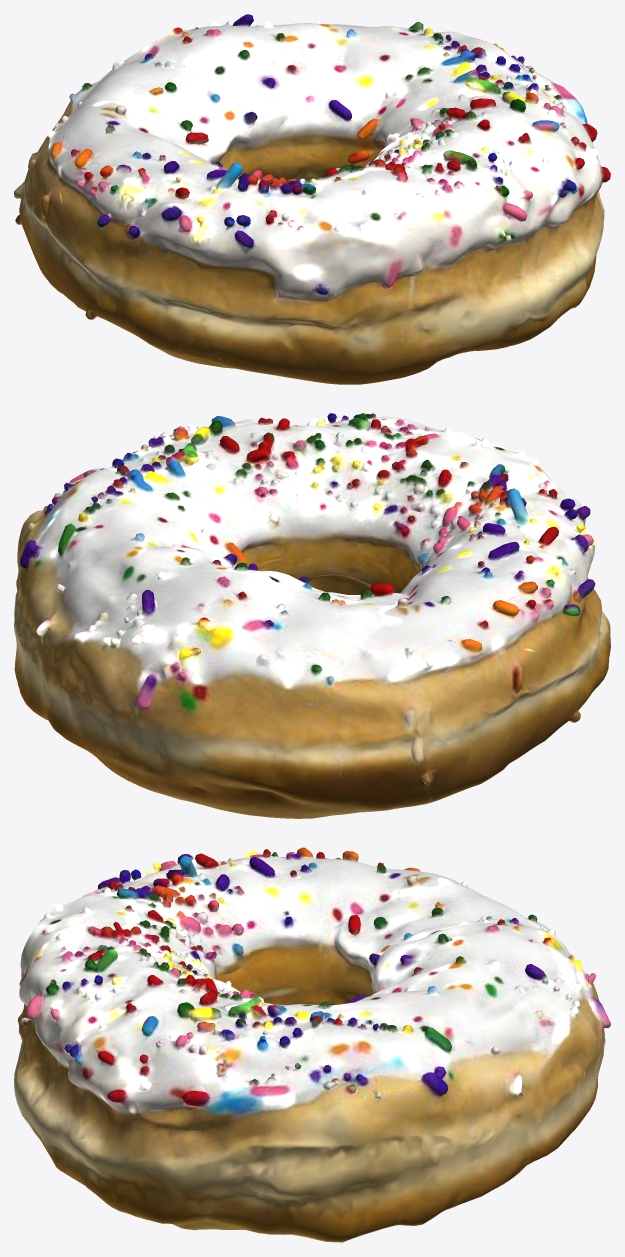
3 views of the same model, one above another, from view 1: azimuth 30°, elevation 25°; view 2: azimuth 150°, elevation 25°; view 3: azimuth 270°, elevation 25° (orthographic). The views are drawn at different scales.
Visible parts, largest first — view 1: mesh_node; view 2: mesh_node; view 3: mesh_node.
Boxes of the visible parts, box(x1,y1,x2,y2) form: mesh_node: box(14, 14, 610, 384); mesh_node: box(14, 413, 610, 818); mesh_node: box(14, 847, 610, 1242).
Bounding box in the file's own units: 1.89 × 0.7841 × 1.9.
Materials: 1 (1 with a texture image).
